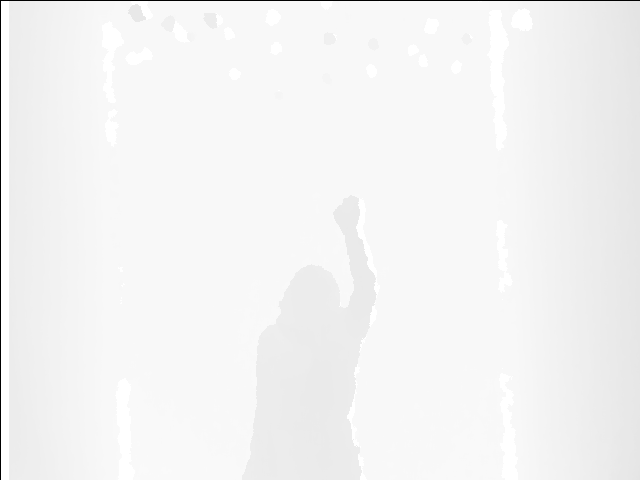hand: (334, 194, 362, 232)
